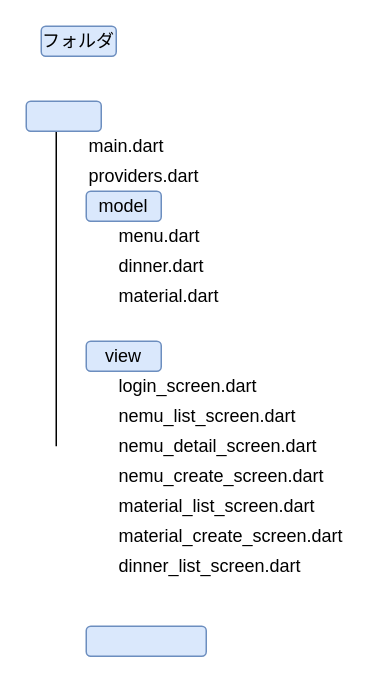
Some shapes in this 383 by 683 pixel diagram are drawn without their labels. Here are the shapes that lost their labels. From the top down, the centre of each, then its label:
At point 63,115: "lib".
At point 145,640: "view_model".
